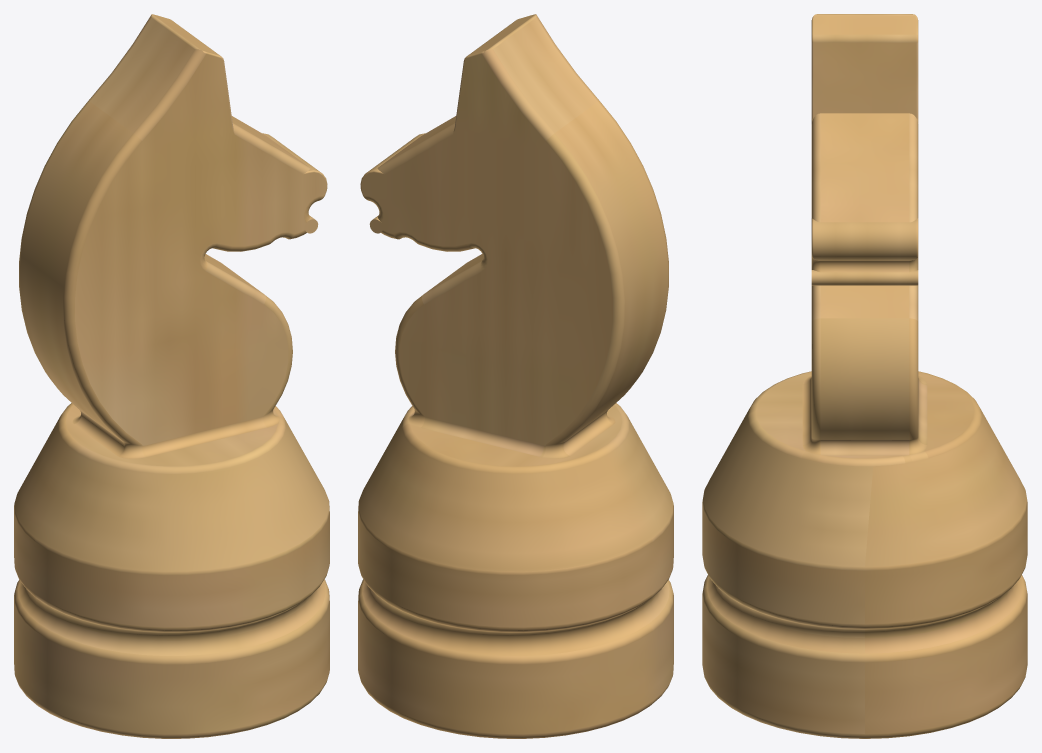
File: Cavalo.glb
The picture shows the model from 3 angles, left to right: view 1: azimuth 30°, elevation 25°; view 2: azimuth 150°, elevation 25°; view 3: azimuth 270°, elevation 25°; orthographic projection. The views are drawn at different scales.
Visible parts, largest first — view 1: Corpo1; view 2: Corpo1; view 3: Corpo1.
Boxes of the visible parts, x1,y1,x2,y2 form: Corpo1: (14, 14, 329, 738); Corpo1: (358, 14, 673, 738); Corpo1: (702, 14, 1027, 738).
Size of the model in its own units: 36.6 by 82.1 by 36.6.
1 material, 1 textured.
